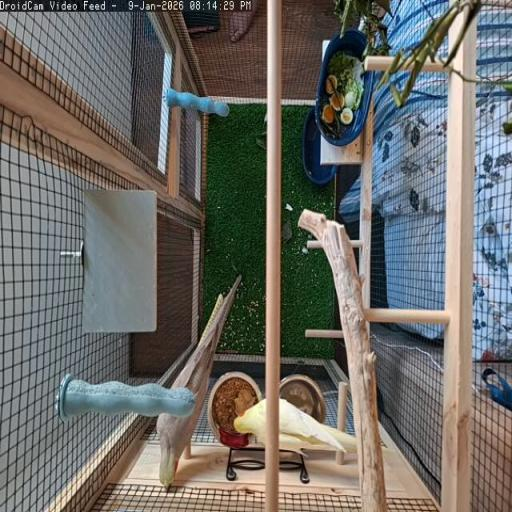bebedero: (280, 374, 325, 421)
comedero: (208, 371, 261, 447)
ninfa: (158, 278, 238, 489), (279, 399, 356, 452), (235, 399, 266, 444)
